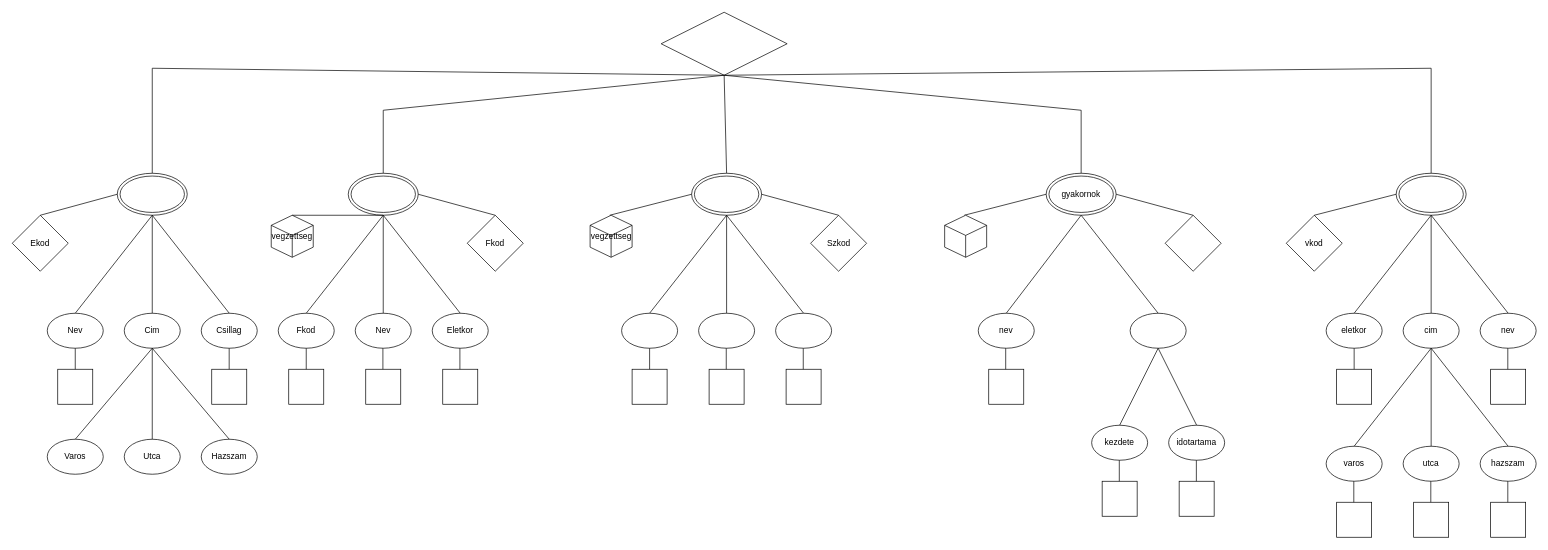
Some shapes in this 1548 by 550 pixel diagram are drawn without their labels. Each missing label, with the centre of its shape:
Etterem: the point at 152,194
Foszakacs: the point at 383,194
gyakorlat: the point at 1157,330
gykod: the point at 1192,243
muszak: the point at 965,236
szakacs: the point at 726,194
vendeg: the point at 1430,194
Vendeglatas: the point at 723,43
